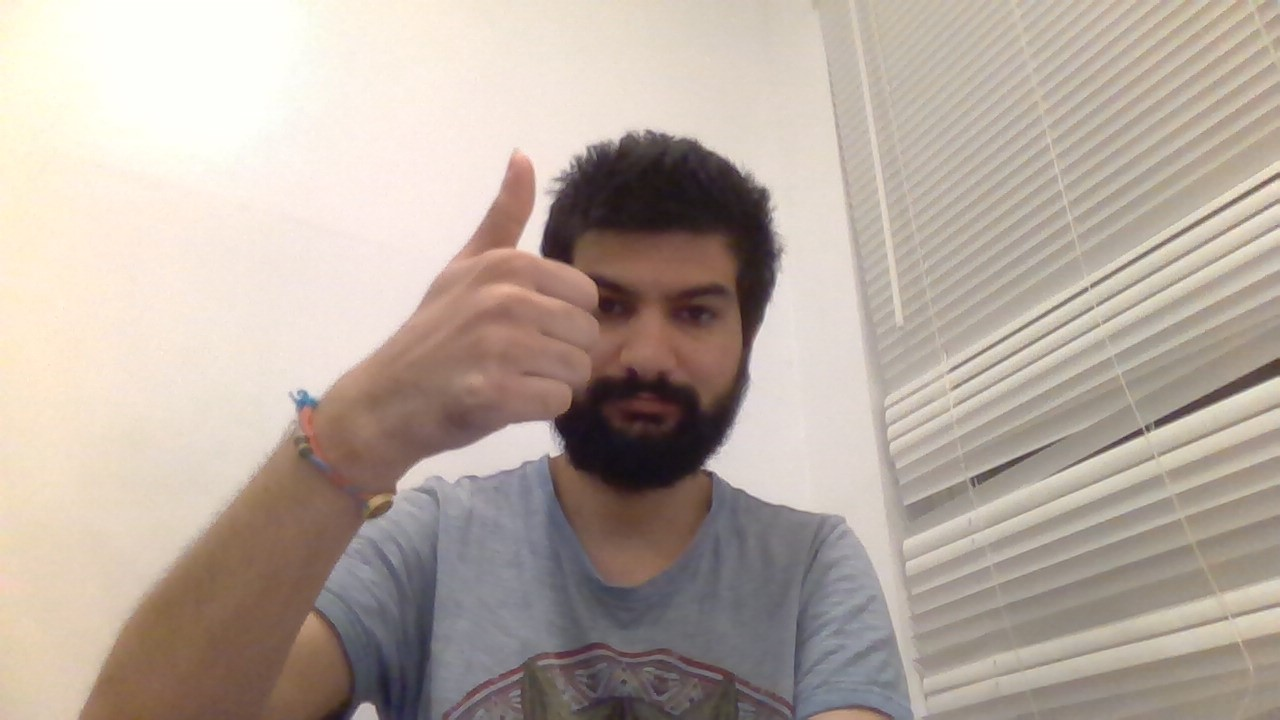up: (397, 146, 602, 427)
